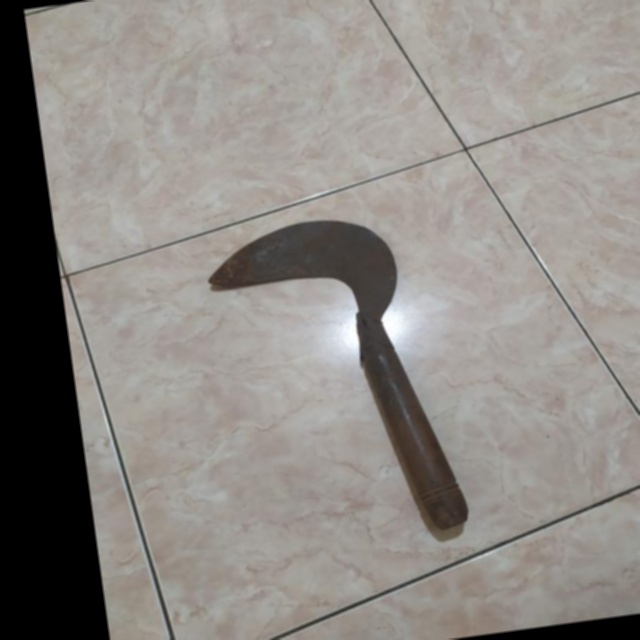Sharp-Object: (195, 196, 488, 572)
